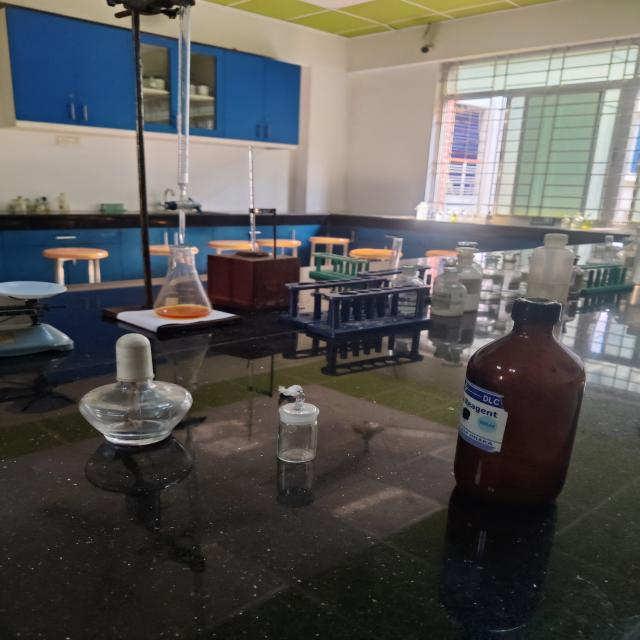Nessler_Reagent_Bottle: (416, 282, 606, 533)
Spirit_Lamp: (64, 324, 208, 468)
Weighing_Bottle: (256, 373, 344, 475)
